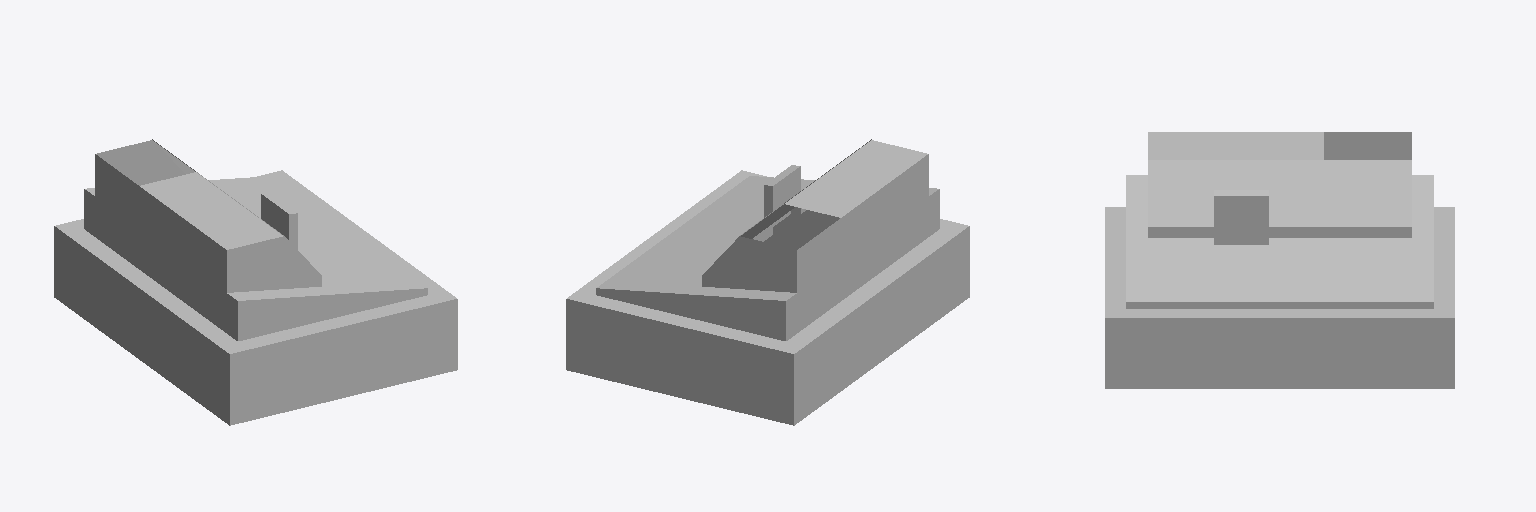
The model's file is cashregister.obj.
3 views of the same model, side by side, from view 1: azimuth 30°, elevation 25°; view 2: azimuth 150°, elevation 25°; view 3: azimuth 270°, elevation 25° (orthographic).
Parts seen in each view (by area): view 1: CYBER; view 2: CYBER; view 3: CYBER.
Part boxes in pixels (x1,y1,x2,y2): CYBER: (54,139,457,425); CYBER: (566,139,969,425); CYBER: (1105,132,1454,388).
Bounding box in the file's own units: 24 × 15.67 × 32.